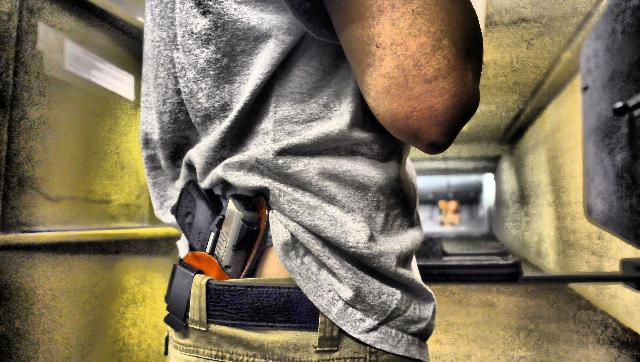pistol: (159, 180, 263, 286)
